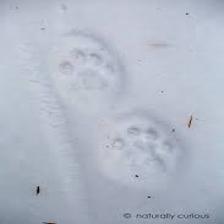cat: (108, 124, 179, 186), (59, 49, 120, 100)
